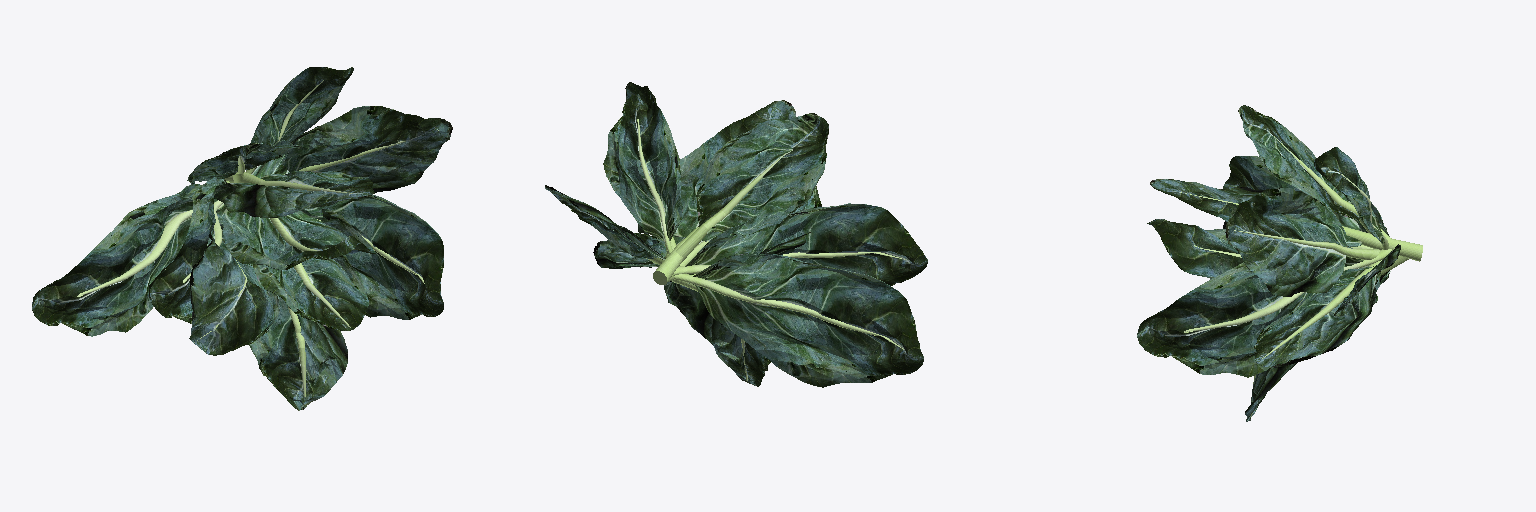
3 views of the same model, side by side, from view 1: azimuth 30°, elevation 25°; view 2: azimuth 150°, elevation 25°; view 3: azimuth 270°, elevation 25° (orthographic).
Visible parts, largest first — view 1: plant_Plane.087; view 2: plant_Plane.087; view 3: plant_Plane.087.
Boxes of the visible parts, x1=… form: plant_Plane.087: x1=32, y1=67, x2=452, y2=410; plant_Plane.087: x1=545, y1=82, x2=927, y2=387; plant_Plane.087: x1=1137, y1=105, x2=1422, y2=421.
Bounding box in the file's own units: 0.3975 × 0.2984 × 0.2592.
2 materials, 2 textured.